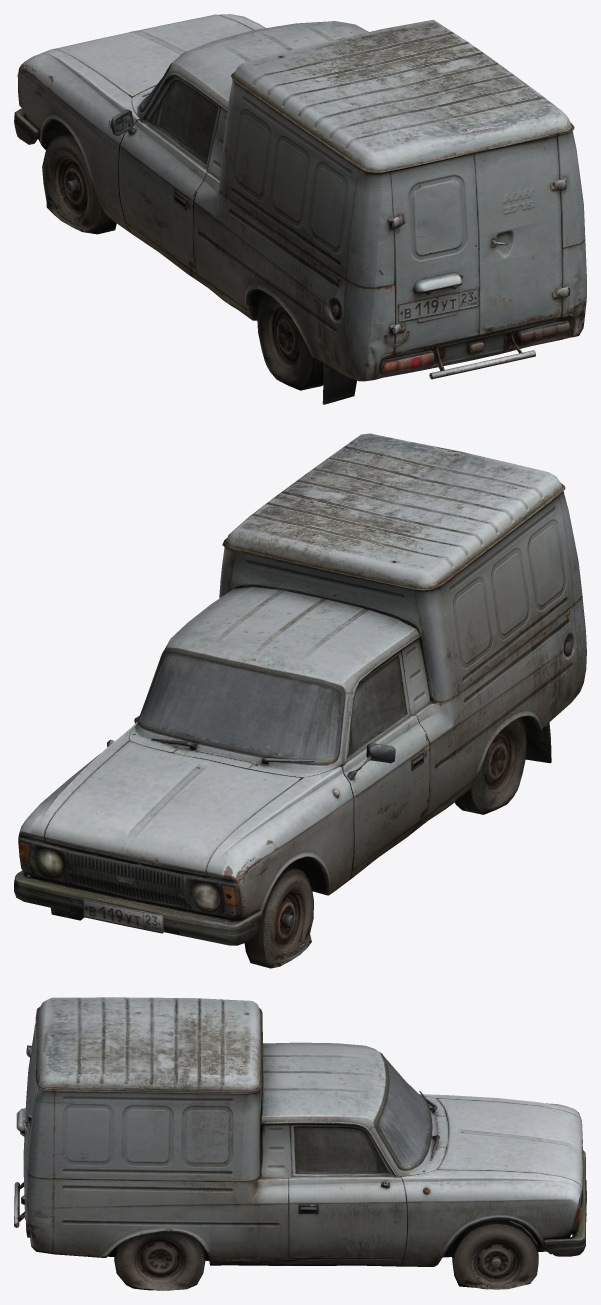
The model's file is van_izh.glb.
3 renders of one model, top to bottom at view 1: azimuth 30°, elevation 25°; view 2: azimuth 150°, elevation 25°; view 3: azimuth 270°, elevation 25°, orthographic. The views are drawn at different scales.
Parts seen in each view (by area): view 1: Pirozhok001; view 2: Pirozhok001; view 3: Pirozhok001.
Part boxes in pixels (x1,y1,x2,y2): Pirozhok001: (14,14,586,404); Pirozhok001: (14,433,586,968); Pirozhok001: (14,997,586,1290).
Size of the model in its own units: 1.71 by 1.7 by 4.1.
Materials: 1 (1 with a texture image).
